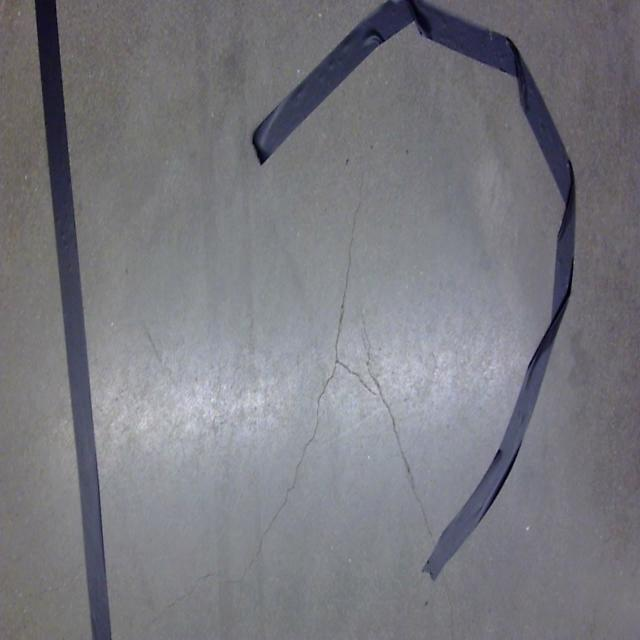tape: (236, 0, 596, 599), (17, 0, 124, 640)
